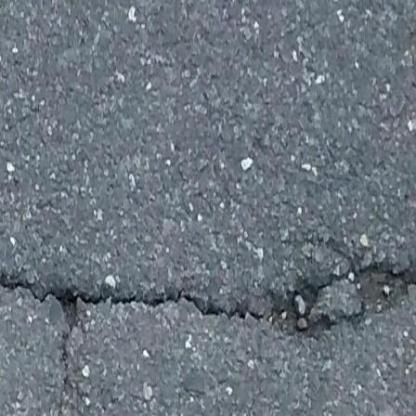Cracks: (0, 241, 296, 369), (254, 232, 414, 346), (44, 271, 91, 416)
